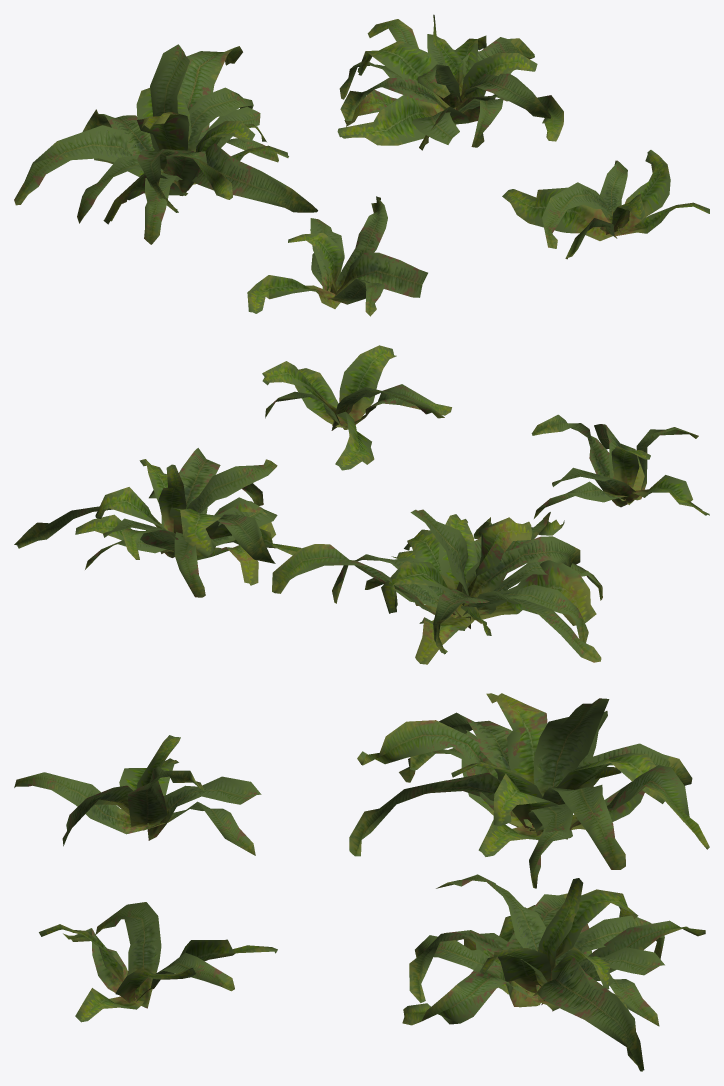
The model's file is fern.glb.
3 renders of one model, top to bottom at view 1: azimuth 30°, elevation 25°; view 2: azimuth 150°, elevation 25°; view 3: azimuth 270°, elevation 25°, orthographic. The views are drawn at different scales.
Parts seen in each view (by area): view 1: fern_02_b; view 2: fern_02_b; view 3: fern_02_b.
Boxes of the visible parts, x1,y1,x2,y2 form: fern_02_b: [14, 14, 709, 316]; fern_02_b: [14, 345, 709, 664]; fern_02_b: [14, 693, 709, 1071].
Size of the model in its own units: 1.97 by 0.4276 by 1.72.
1 material, 1 textured.
